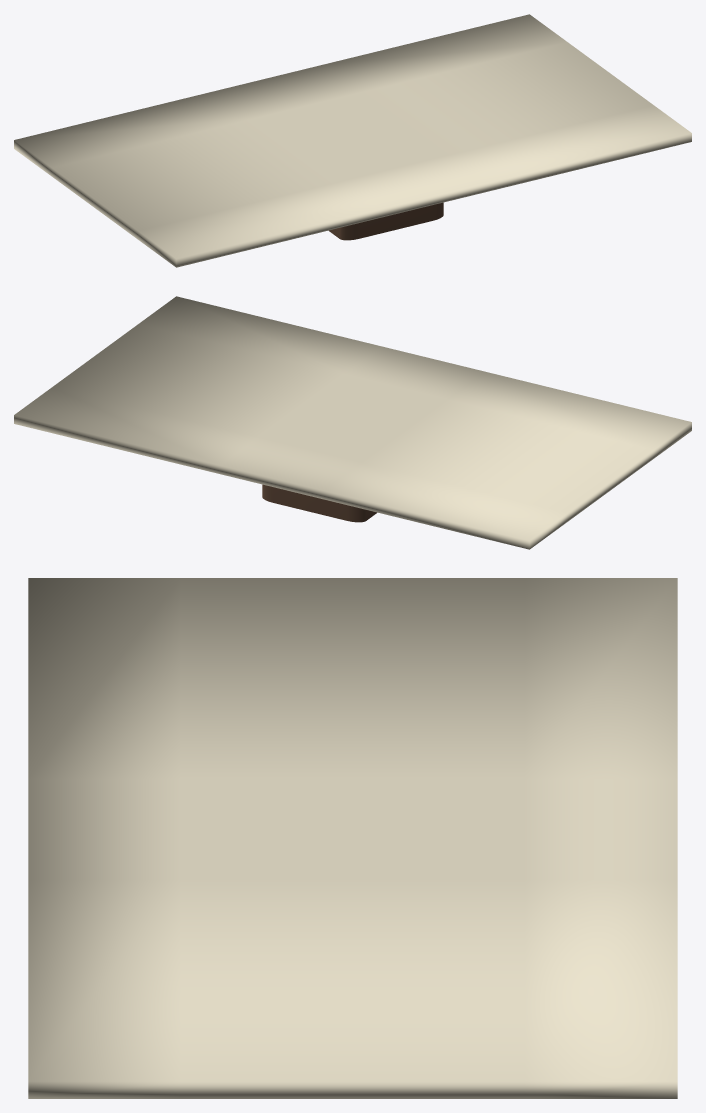
The model's file is casette_pad.glb.
3 renders of one model, top to bottom at view 1: azimuth 30°, elevation 25°; view 2: azimuth 150°, elevation 25°; view 3: azimuth 270°, elevation 25°, orthographic. The views are drawn at different scales.
Visible parts, largest first — view 1: Cube.002; view 2: Cube.002; view 3: Cube.002.
Part boxes in pixels (box(x1,y1,x2,y2)): Cube.002: box(14, 14, 691, 267); Cube.002: box(14, 296, 691, 549); Cube.002: box(28, 578, 677, 1098).
Bounding box in the file's own units: 0.1846 × 0.0211 × 0.1007.
